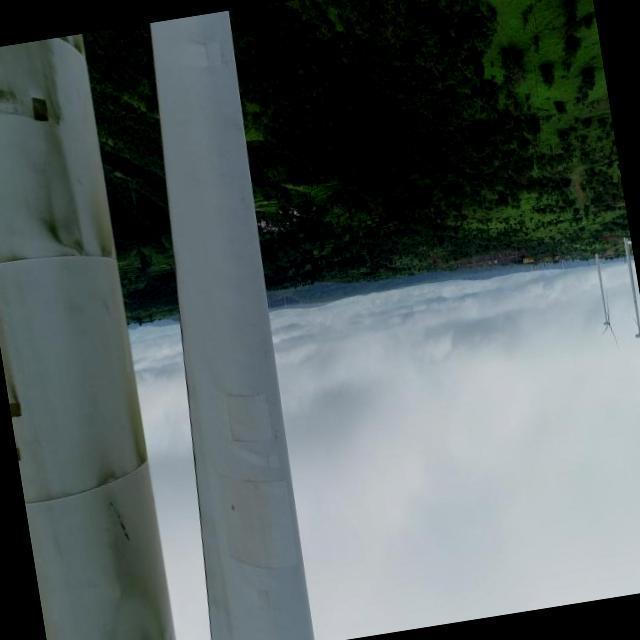Dirt: (0, 35, 177, 639)
